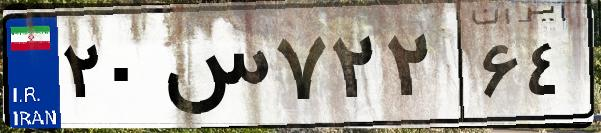0: (110, 28, 158, 98)
2: (385, 28, 445, 110), (330, 28, 385, 110), (57, 26, 110, 100)
4: (525, 38, 570, 115)
6: (475, 38, 525, 113)
7: (270, 28, 330, 110)
س: (158, 20, 270, 120)
